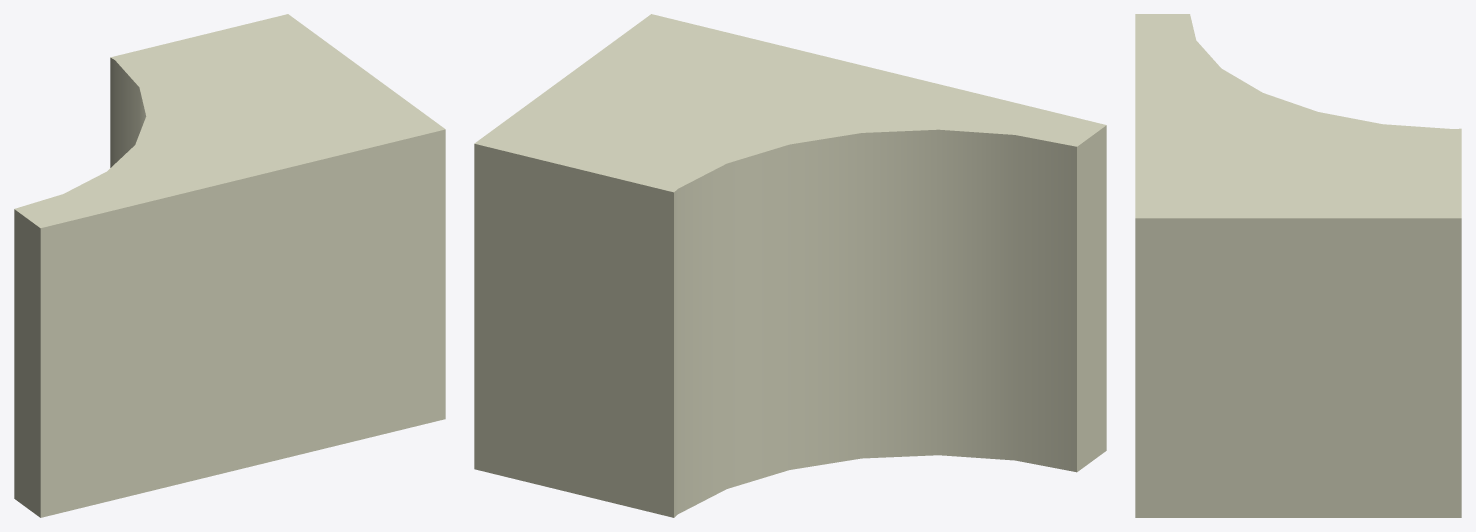
The picture shows the model from 3 angles, left to right: view 1: azimuth 30°, elevation 25°; view 2: azimuth 150°, elevation 25°; view 3: azimuth 270°, elevation 25°; orthographic projection. The views are drawn at different scales.
Visible parts, largest first — view 1: SketchUp; view 2: SketchUp; view 3: SketchUp.
Part boxes in pixels (x1=…): SketchUp: x1=14, y1=14, x2=445, y2=517; SketchUp: x1=474, y1=14, x2=1106, y2=517; SketchUp: x1=1135, y1=14, x2=1461, y2=517.
Size of the model in its own units: 128 by 86.22 by 87.4.
